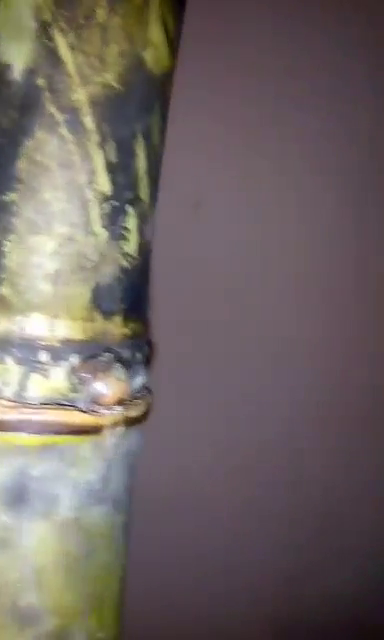cane eye: (72, 351, 134, 413)
